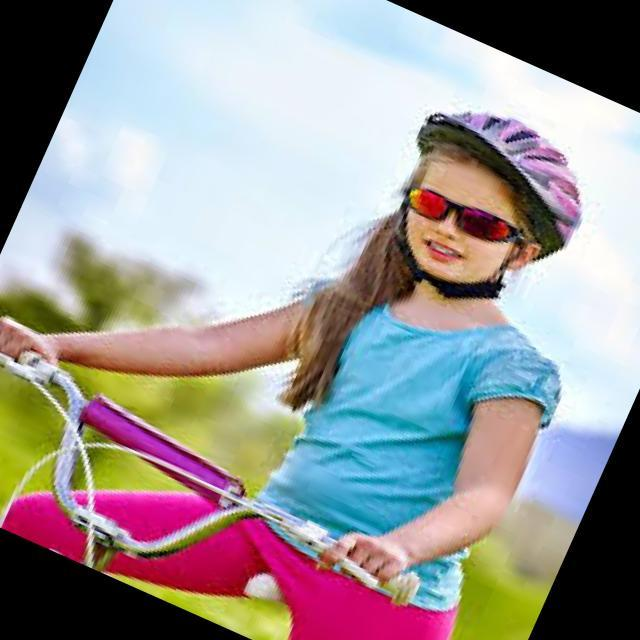WITH_HELMET: (392, 78, 612, 224)
